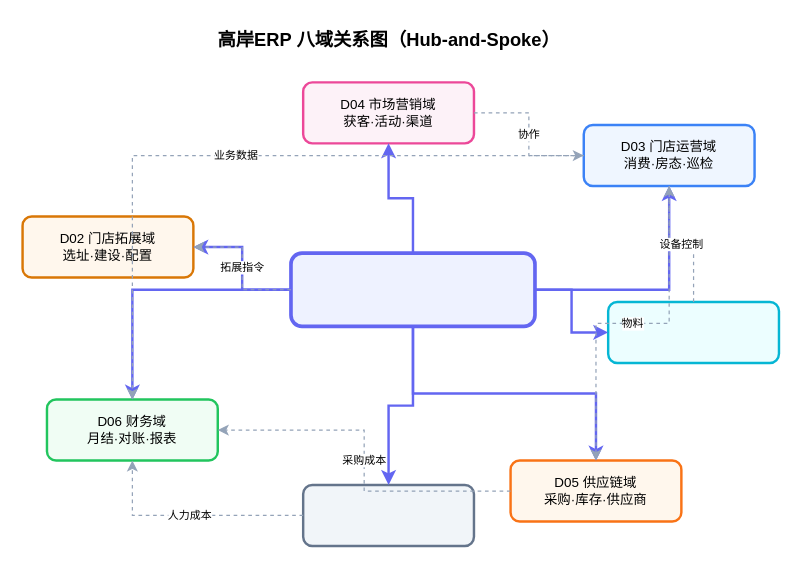
This 800x567 diagram has some shape labels left out. The shapes that lost their labels are listed below. From the top down, each one's centre as x and y in pixels, then its label:
At pixel 412 289: "D01 品牌运营域 品牌战略·发展·标准".
At pixel 693 332: "D08 技术域 IoT·场景·预警".
At pixel 388 515: "D07 人力资源域 考勤·薪资·档案".
